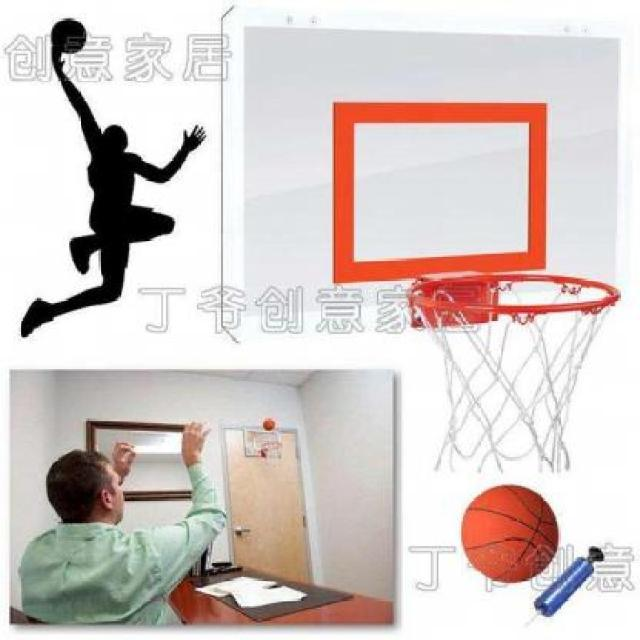basketball: (459, 483, 561, 583)
rim: (408, 274, 620, 474)
